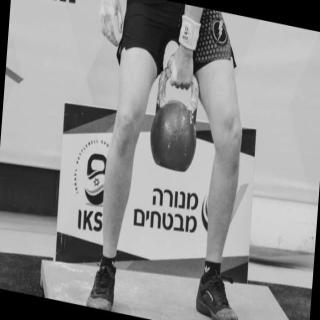kettlebell: (150, 57, 208, 180)
